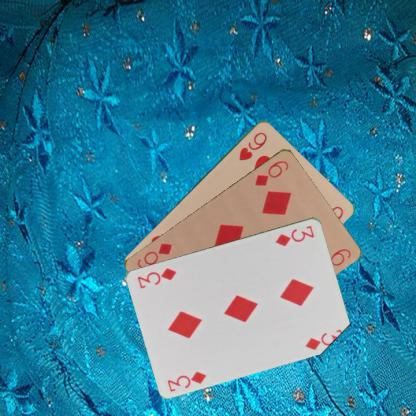3d: (165, 368, 208, 393), (272, 223, 316, 247)
6d: (252, 157, 290, 188)
9h: (235, 129, 268, 162)
